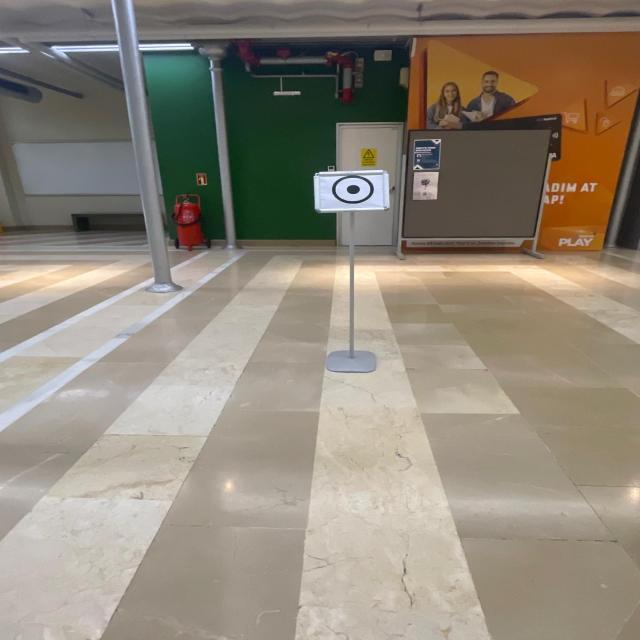Target: (299, 160, 406, 218)
inner: (342, 178, 366, 202)
